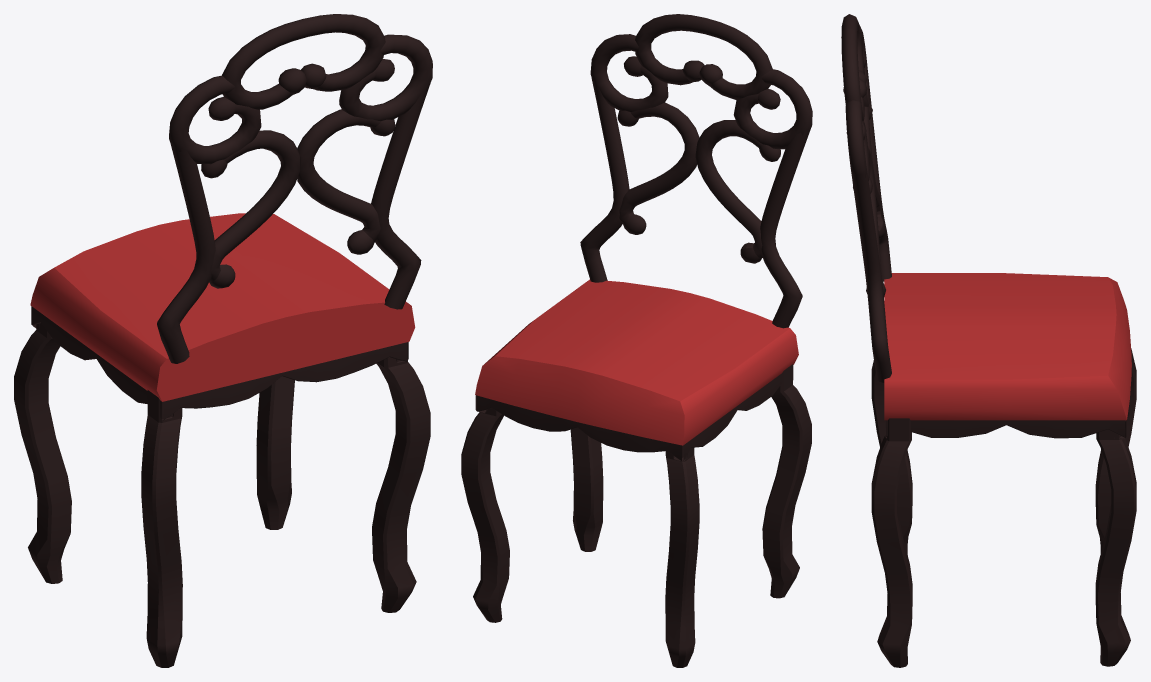
The model's file is BgMD_chair.fbx.
3 renders of one model, left to right at view 1: azimuth 30°, elevation 25°; view 2: azimuth 150°, elevation 25°; view 3: azimuth 270°, elevation 25°, orthographic. The views are drawn at different scales.
Parts seen in each view (by area): view 1: Bg_chair; view 2: Bg_chair; view 3: Bg_chair.
Part boxes in pixels (left/top/right/bottom): Bg_chair: left=14, top=14, right=432, bottom=667; Bg_chair: left=461, top=14, right=812, bottom=667; Bg_chair: left=841, top=14, right=1136, bottom=667.
Bounding box in the file's own units: 53.18 × 117 × 53.16.
